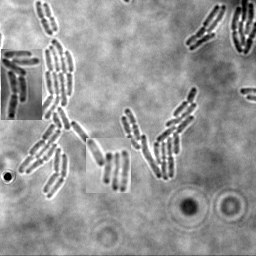Dividing: (34, 1, 52, 37), (41, 3, 57, 33)
Microcolony: (18, 40, 89, 199), (120, 87, 197, 181), (1, 49, 42, 120), (86, 138, 131, 193), (184, 5, 226, 52), (230, 1, 255, 56)
